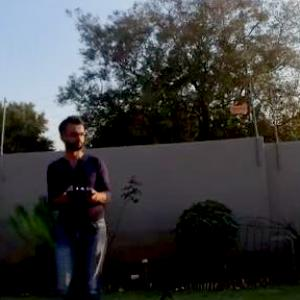follow: (42, 110, 114, 299)
